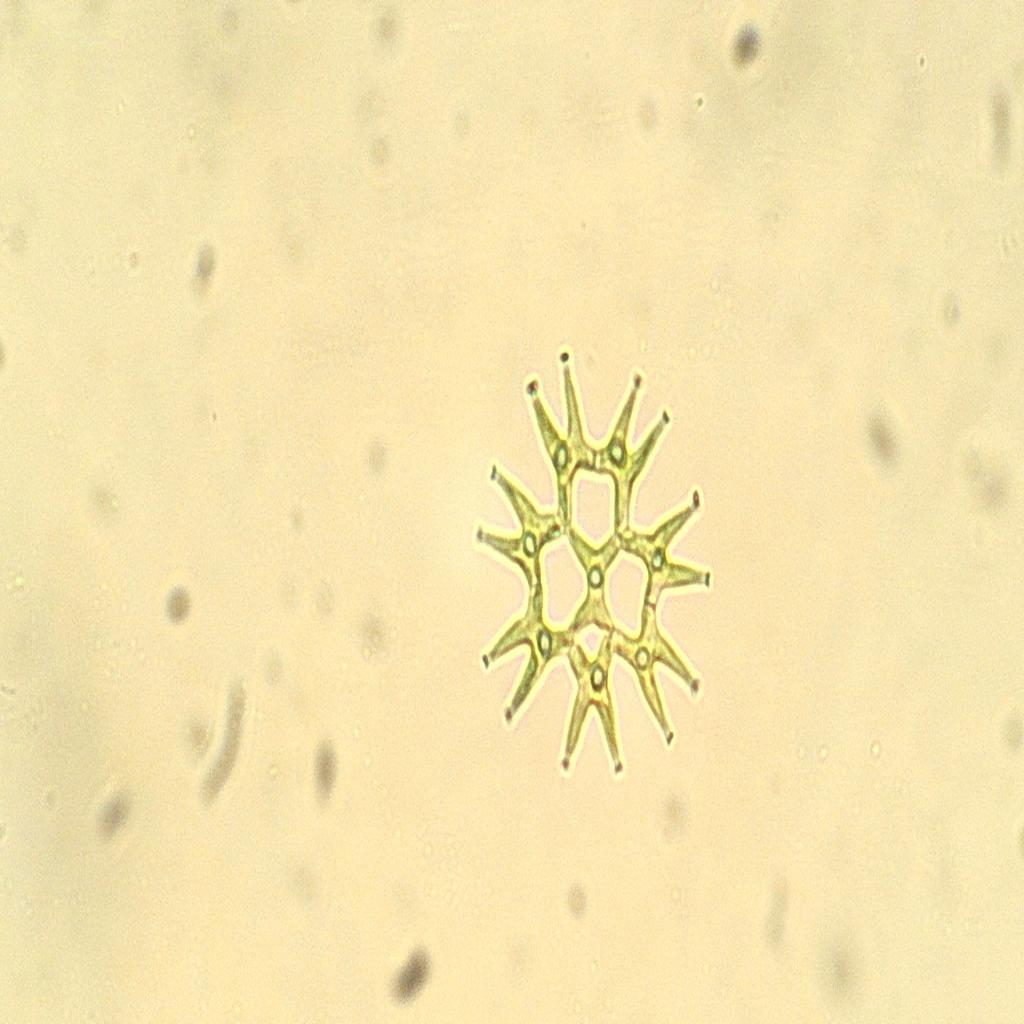Pediastrum_75T: (459, 338, 737, 788)
